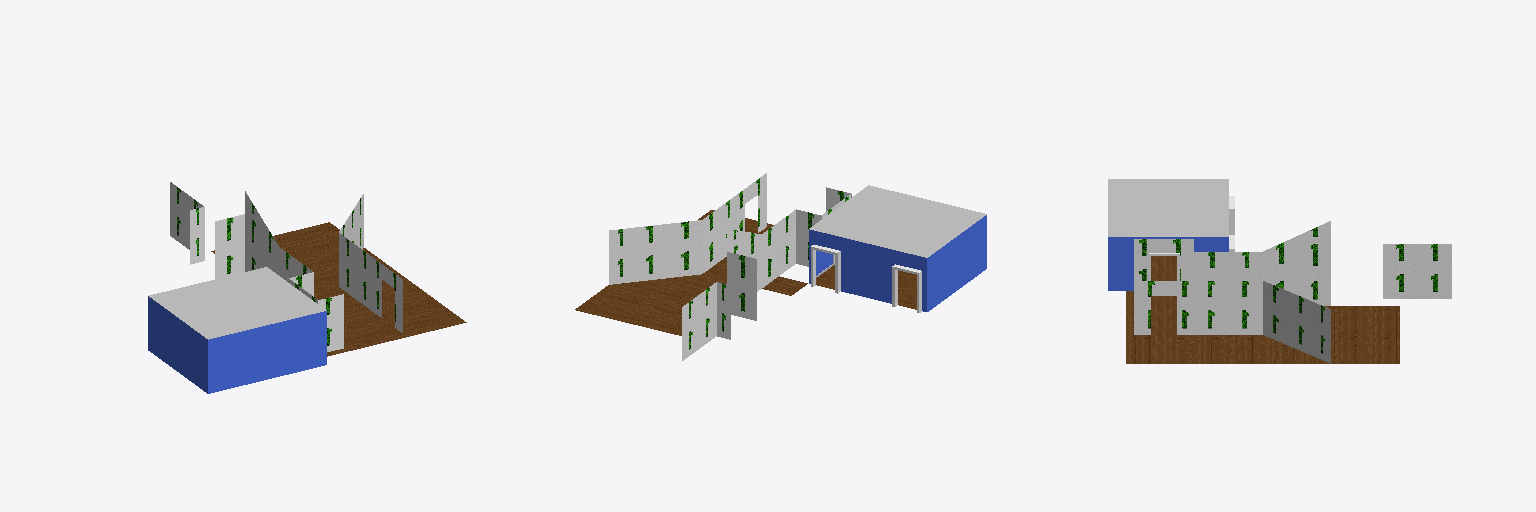
3 renders of one model, left to right at view 1: azimuth 30°, elevation 25°; view 2: azimuth 150°, elevation 25°; view 3: azimuth 270°, elevation 25°, orthographic.
Parts seen in each view (by area): view 1: MainRoomWall, Room1Wall, MainFloor, Room1Ceiling; view 2: MainRoomWall, Room1Wall, Room1Ceiling, MainFloor, Room1PillarDoor, Room1Floor; view 3: MainRoomWall, MainFloor, Room1Ceiling, Room1Wall, Room1Floor, Room1PillarDoor.
Boxes of the visible parts, x1=… form: MainRoomWall: x1=170, y1=182, x2=402, y2=351; Room1Wall: x1=148, y1=296, x2=326, y2=393; MainFloor: x1=211, y1=222, x2=466, y2=356; Room1Ceiling: x1=149, y1=267, x2=326, y2=339; MainRoomWall: x1=609, y1=173, x2=851, y2=360; Room1Wall: x1=809, y1=215, x2=986, y2=311; Room1Ceiling: x1=809, y1=185, x2=986, y2=257; MainFloor: x1=575, y1=210, x2=807, y2=335; Room1PillarDoor: x1=811, y1=245, x2=921, y2=312; Room1Floor: x1=816, y1=265, x2=916, y2=309; MainRoomWall: x1=1134, y1=221, x2=1451, y2=363; MainFloor: x1=1126, y1=291, x2=1399, y2=363; Room1Ceiling: x1=1108, y1=179, x2=1228, y2=236; Room1Wall: x1=1108, y1=237, x2=1228, y2=290; Room1Floor: x1=1151, y1=256, x2=1176, y2=280; Room1PillarDoor: x1=1149, y1=196, x2=1234, y2=280.
Bounding box in the file's own units: 36 × 11 × 40.
Materials: 6 (2 with a texture image).